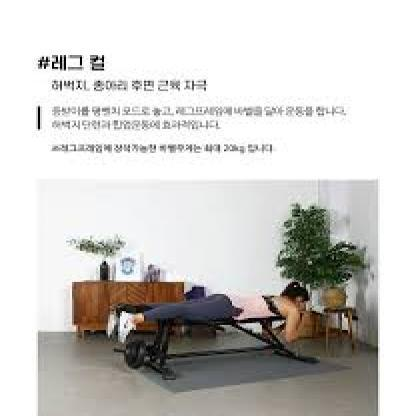reg curl machine: (107, 278, 329, 383)
